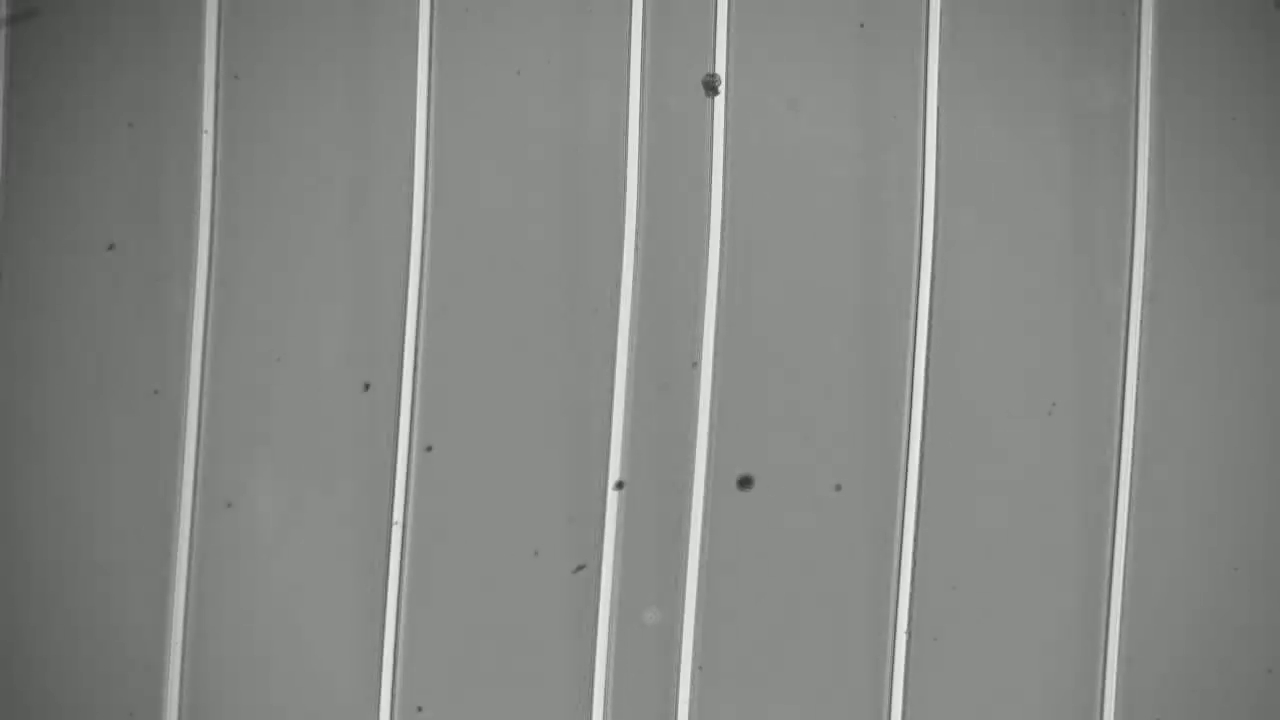stains_enbedded: (697, 61, 736, 103), (602, 474, 636, 499)
